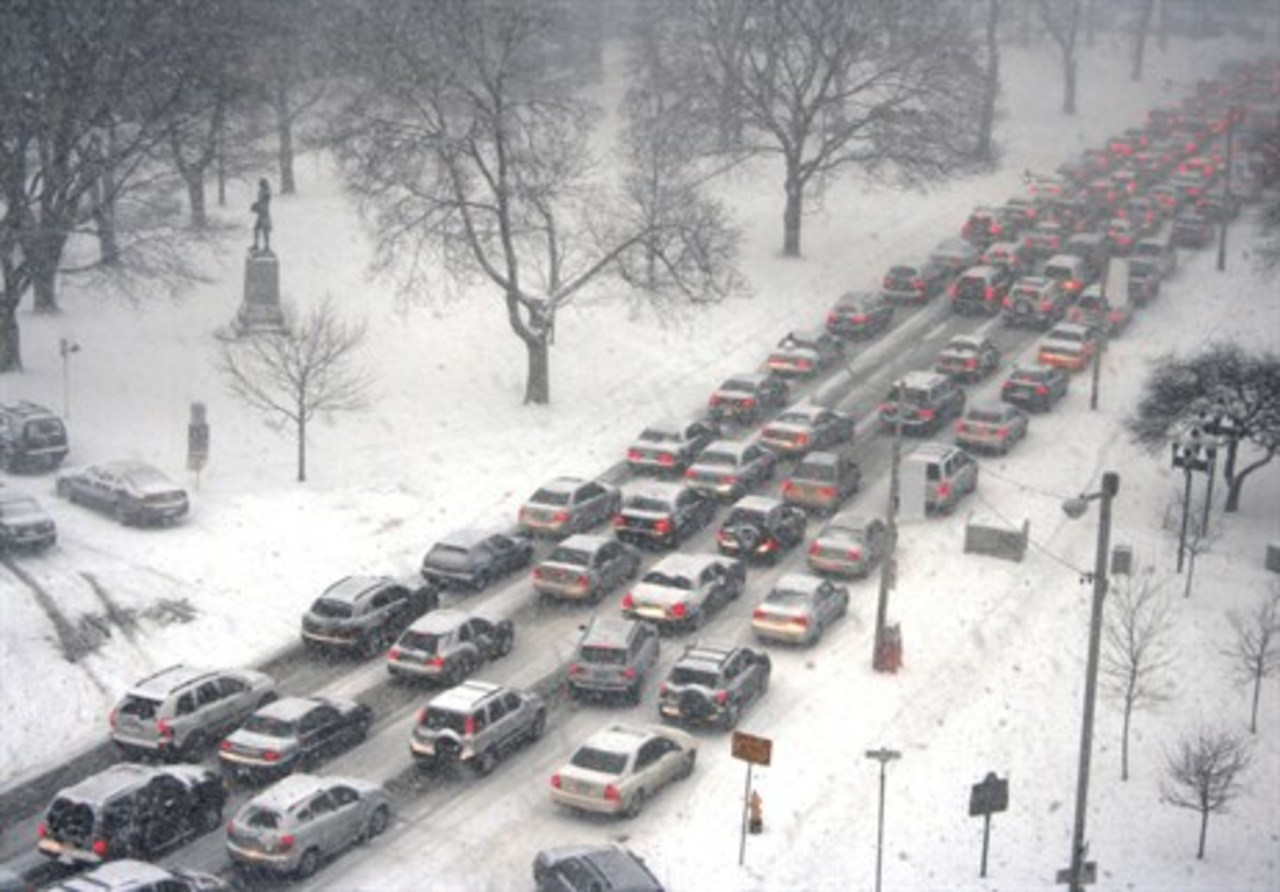car: (34, 755, 230, 869), (224, 772, 398, 883), (108, 664, 276, 764), (547, 720, 700, 822), (217, 691, 369, 778), (300, 571, 430, 655), (412, 686, 537, 766), (393, 609, 519, 685), (65, 456, 196, 528), (658, 648, 769, 730), (567, 598, 654, 702), (624, 555, 735, 632), (529, 840, 681, 891), (752, 572, 850, 646), (531, 525, 630, 594), (425, 527, 531, 586), (520, 474, 622, 528), (624, 471, 703, 534), (879, 370, 961, 429), (905, 443, 981, 506), (807, 520, 884, 581), (787, 448, 858, 509), (726, 500, 803, 556), (692, 441, 773, 489), (3, 411, 68, 470), (0, 492, 59, 555), (768, 324, 843, 371), (1003, 360, 1064, 414), (764, 401, 846, 440), (627, 417, 711, 455), (706, 372, 778, 414), (963, 402, 1022, 449), (828, 289, 890, 333), (934, 332, 996, 373), (883, 254, 942, 293), (1042, 324, 1093, 367), (952, 263, 1003, 306), (1004, 275, 1054, 317), (1119, 259, 1161, 306), (1142, 229, 1181, 271), (1071, 228, 1109, 268), (1041, 254, 1082, 291), (998, 190, 1039, 226), (958, 212, 1007, 242), (1174, 214, 1210, 249), (979, 237, 1021, 265), (1032, 167, 1071, 194), (1146, 108, 1177, 136), (1088, 178, 1118, 206), (1204, 188, 1232, 218), (1155, 182, 1178, 213), (1183, 155, 1214, 175), (1129, 193, 1154, 216)
